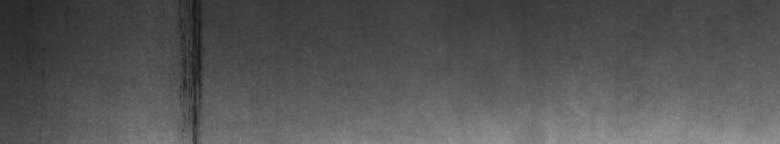hd: (175, 4, 212, 136)
